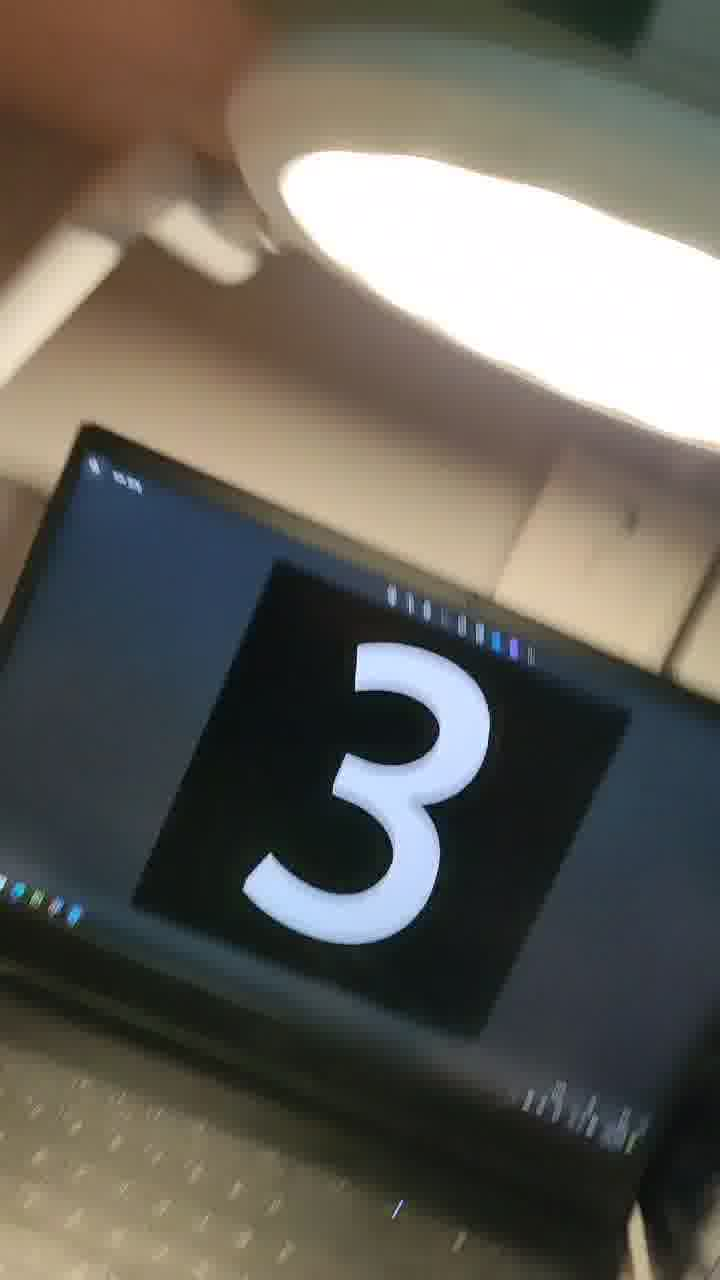three: (254, 550, 536, 955)
